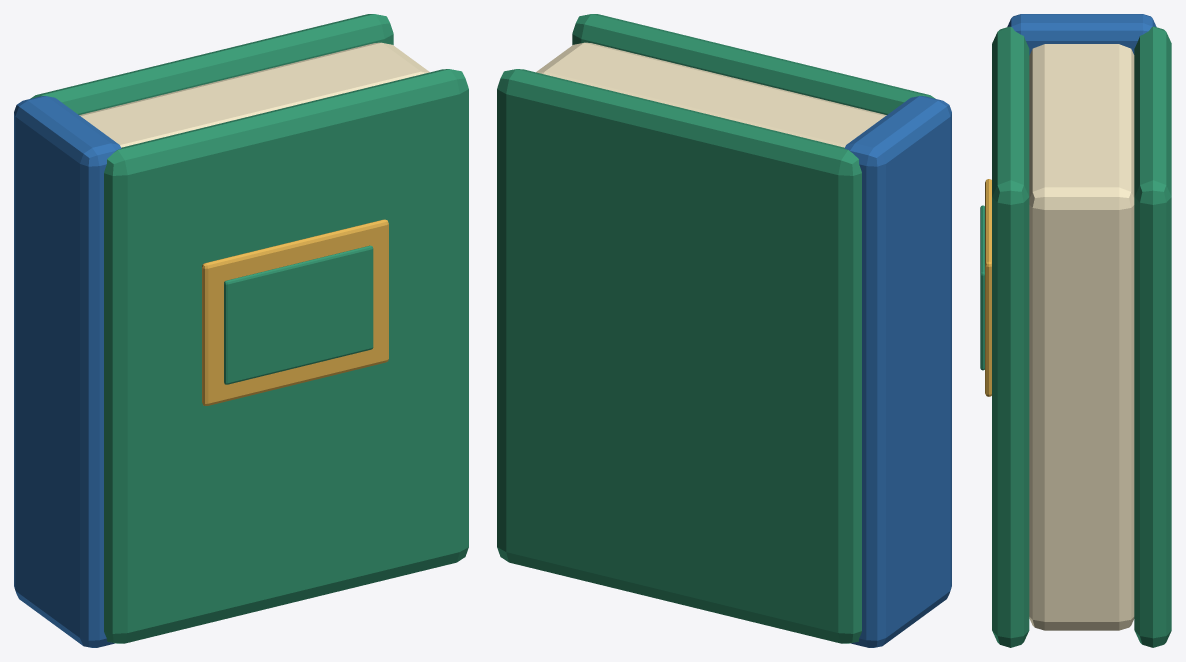
Rendered from pickup_book.glb.
3 views of the same model, side by side, from view 1: azimuth 30°, elevation 25°; view 2: azimuth 150°, elevation 25°; view 3: azimuth 270°, elevation 25° (orthographic). The views are drawn at different scales.
Visible parts, largest first — view 1: Front cover, Book spine, Title inset, Book pages, Cover title plaque, Back cover; view 2: Back cover, Book spine, Book pages, Front cover; view 3: Book pages, Back cover, Front cover, Book spine, Cover title plaque, Title inset.
Boxes of the visible parts, bbox=[...] form: Front cover: bbox=[104, 69, 468, 643]; Book spine: bbox=[14, 96, 121, 647]; Title inset: bbox=[224, 245, 373, 384]; Book pages: bbox=[79, 42, 429, 147]; Cover title plaque: bbox=[202, 219, 388, 405]; Back cover: bbox=[30, 14, 393, 114]; Back cover: bbox=[497, 69, 861, 643]; Book spine: bbox=[844, 96, 951, 647]; Book pages: bbox=[536, 42, 886, 147]; Front cover: bbox=[572, 14, 935, 114]; Book pages: bbox=[1029, 44, 1134, 630]; Back cover: bbox=[1134, 26, 1171, 647]; Front cover: bbox=[992, 26, 1029, 647]; Book spine: bbox=[1007, 14, 1156, 55]; Cover title plaque: bbox=[985, 179, 991, 396]; Title inset: bbox=[980, 205, 984, 370].
Bounding box in the file's own units: 0.615 × 0.77 × 0.2825.
